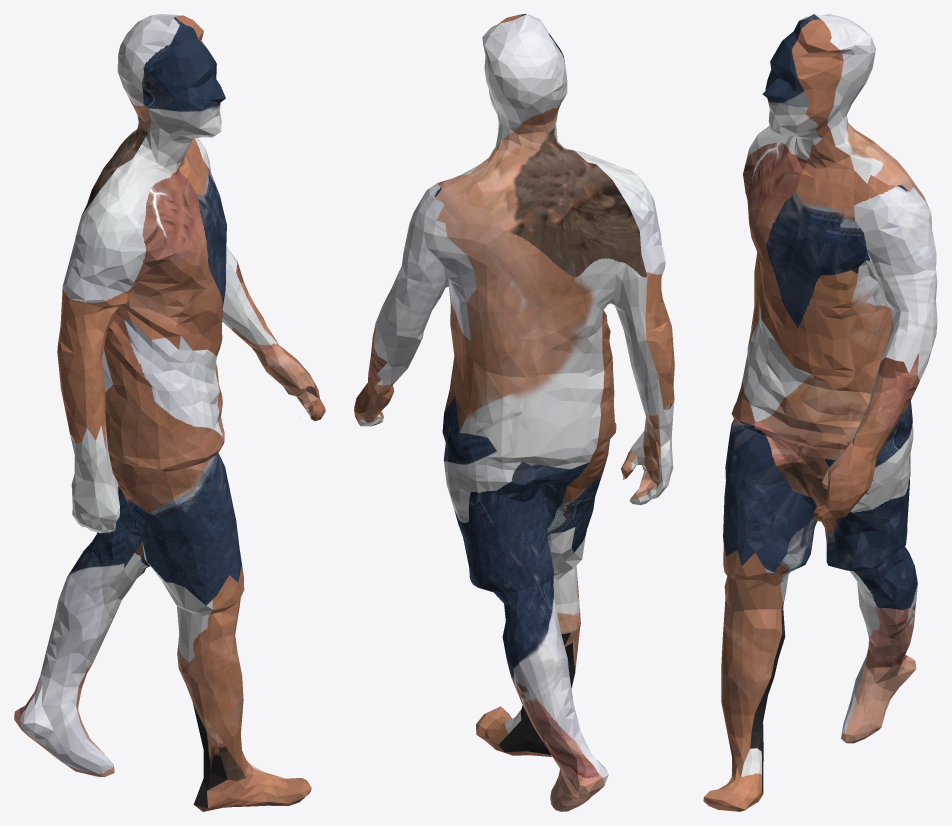
The picture shows the model from 3 angles, left to right: view 1: azimuth 30°, elevation 25°; view 2: azimuth 150°, elevation 25°; view 3: azimuth 270°, elevation 25°; orthographic projection.
Parts seen in each view (by area): view 1: m_4; view 2: m_4; view 3: m_4.
Boxes of the visible parts, x1=… form: m_4: x1=14, y1=14, x2=325, y2=811; m_4: x1=354, y1=14, x2=674, y2=811; m_4: x1=703, y1=14, x2=937, y2=811.
Size of the model in its own units: 0.6588 by 1.72 by 0.4786.
Materials: 1 (1 with a texture image).
